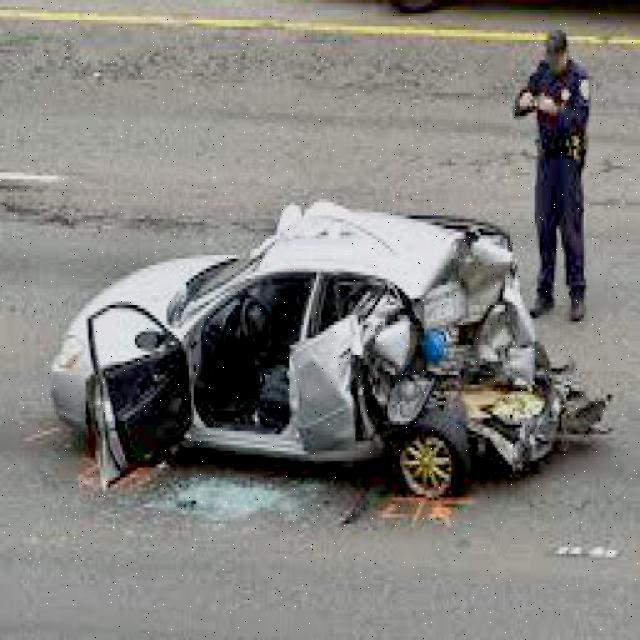car damage: (278, 206, 618, 479)
